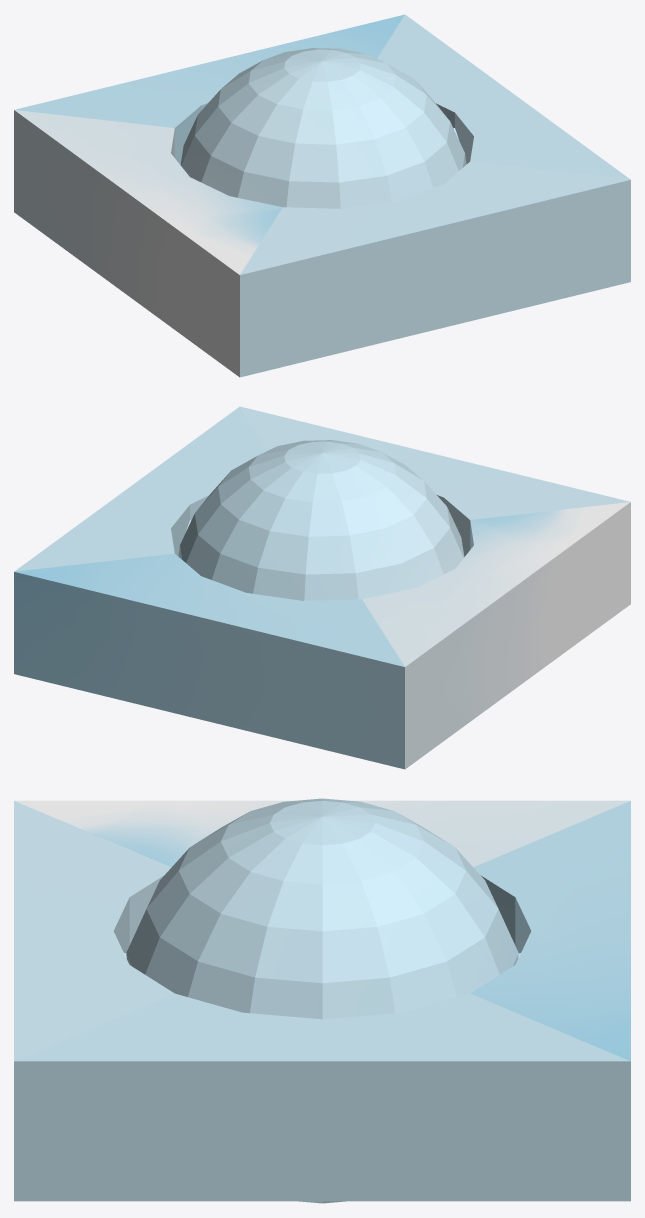
Rendered from mod_mainShip.obj.
3 renders of one model, top to bottom at view 1: azimuth 30°, elevation 25°; view 2: azimuth 150°, elevation 25°; view 3: azimuth 270°, elevation 25°, orthographic. The views are drawn at different scales.
Parts seen in each view (by area): view 1: Cube.007_Cube.008; view 2: Cube.007_Cube.008; view 3: Cube.007_Cube.008.
Part boxes in pixels (<box>): Cube.007_Cube.008: <box>14,14,630,377</box>; Cube.007_Cube.008: <box>14,406,630,769</box>; Cube.007_Cube.008: <box>14,798,630,1203</box>.
Bounding box in the file's own units: 8 × 5.27 × 8.
